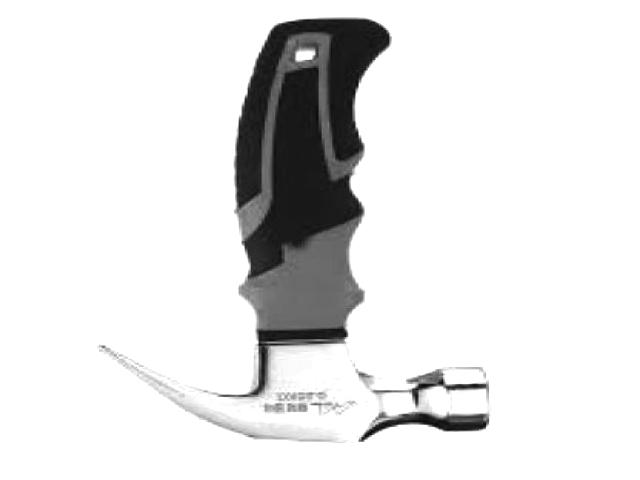Hammer: (98, 20, 489, 442)
